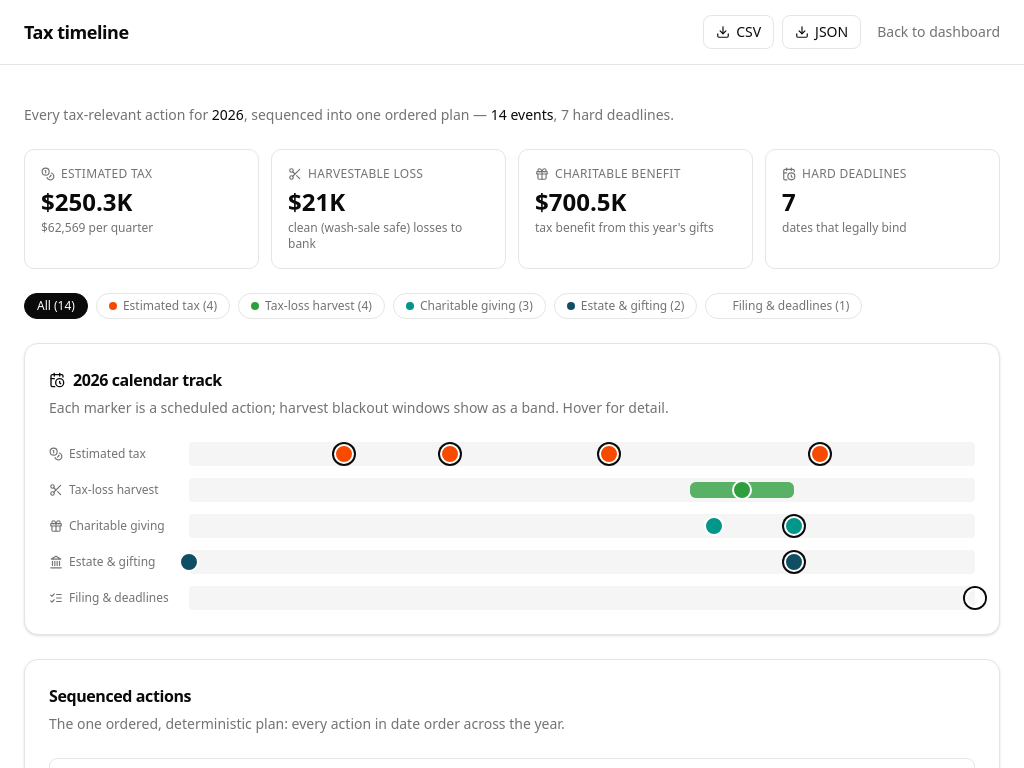
TaxTimelinePage › filters the event list when a category chip is clicked
What coordinates should you click on to do the following:
click the button with test id "filter-charitable"
I would click on:
 (469, 306)
Its box is left=393, top=293, right=546, bottom=319.
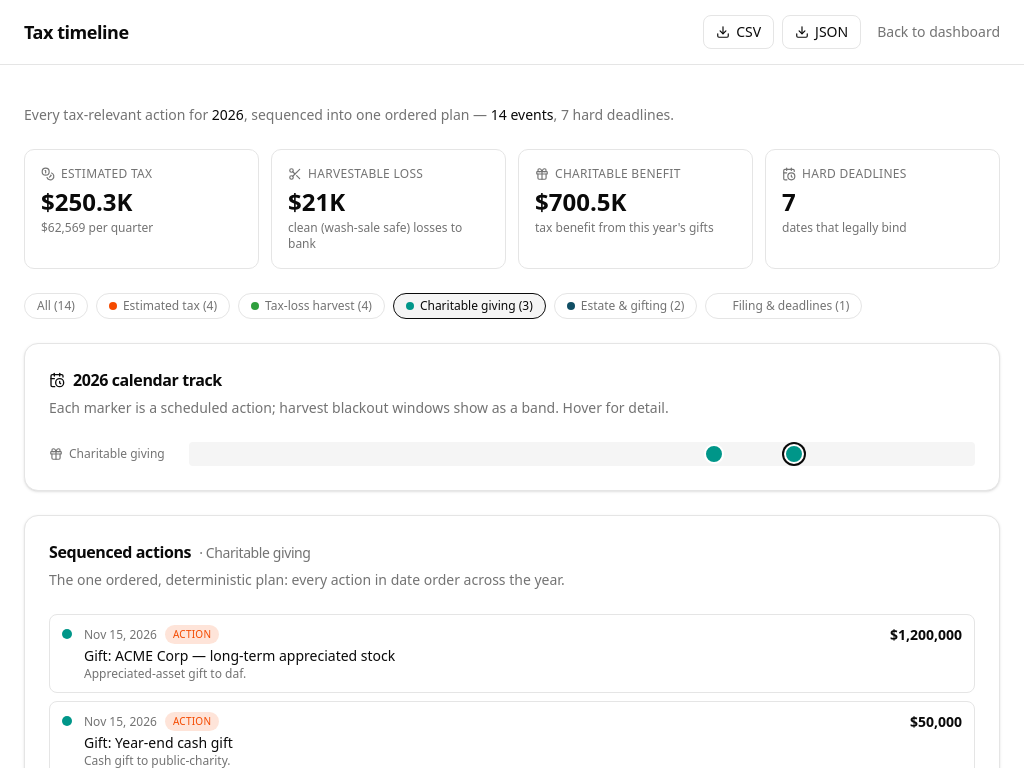
Result: the number of list items with test id "event-row" is 3
# Toggling the same chip off restores the full list.
What coordinates should you click on to do the following:
click the button with test id "filter-charitable"
I would click on:
 (469, 306)
Its box is left=393, top=293, right=546, bottom=319.
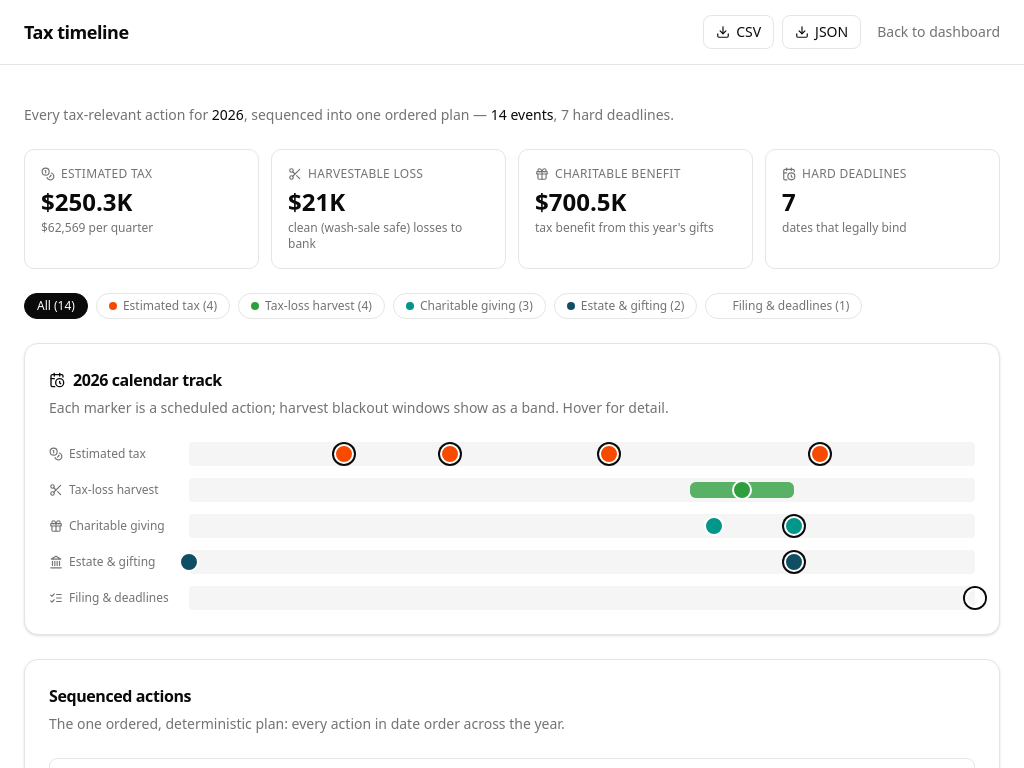
Result: the number of list items with test id "event-row" is 14
